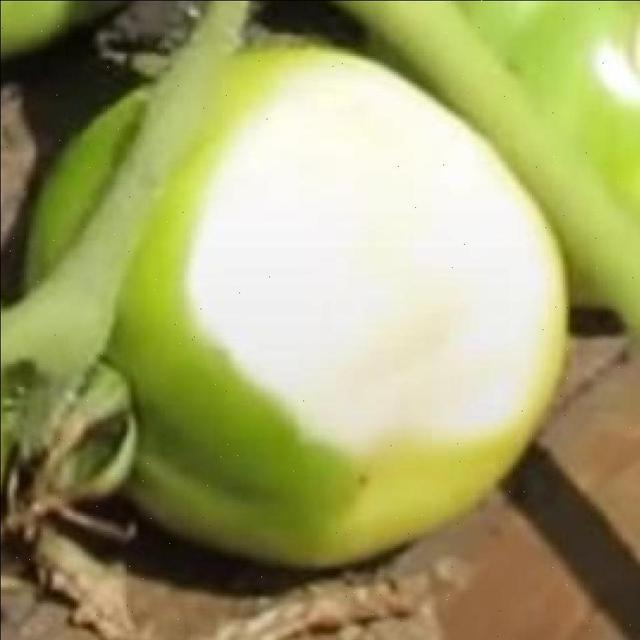Sunscald Fruit: (119, 37, 376, 298)
